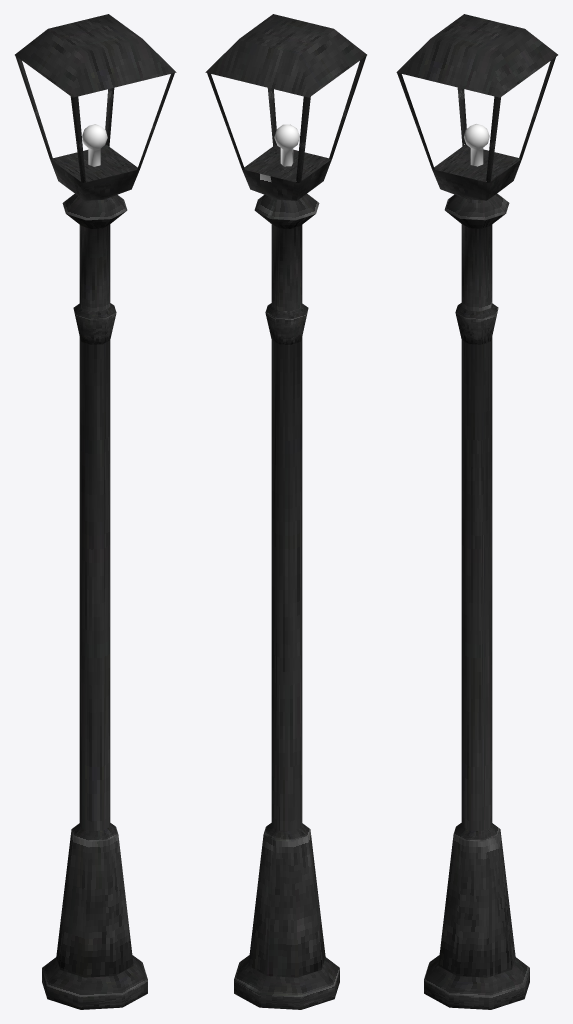
File: prop.obj
3 renders of one model, left to right at view 1: azimuth 30°, elevation 25°; view 2: azimuth 150°, elevation 25°; view 3: azimuth 330°, elevation 25°, orthographic.
Visible parts, largest first — view 1: group; view 2: group; view 3: group.
Boxes of the visible parts, bbox=[...] form: group: bbox=[15, 14, 176, 1009]; group: bbox=[205, 14, 366, 1009]; group: bbox=[396, 14, 557, 1009].
Bounding box in the file's own units: 0.6146 × 5.4 × 0.602.
Materials: 1 (1 with a texture image).
